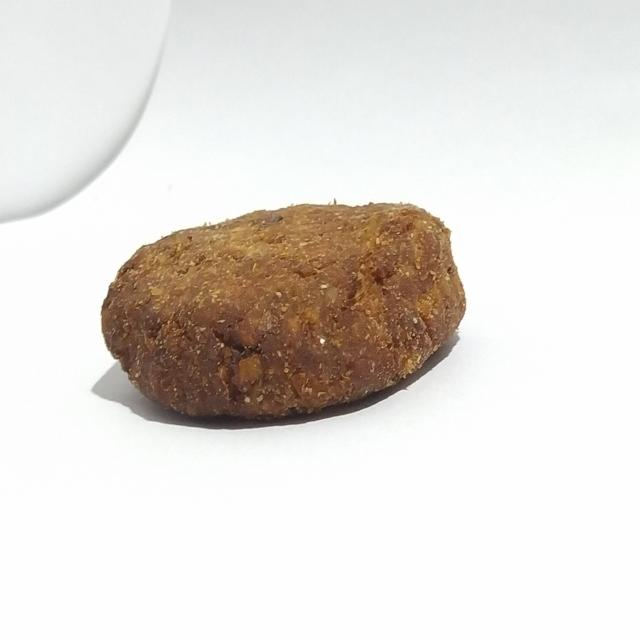Food: (94, 181, 469, 431)
